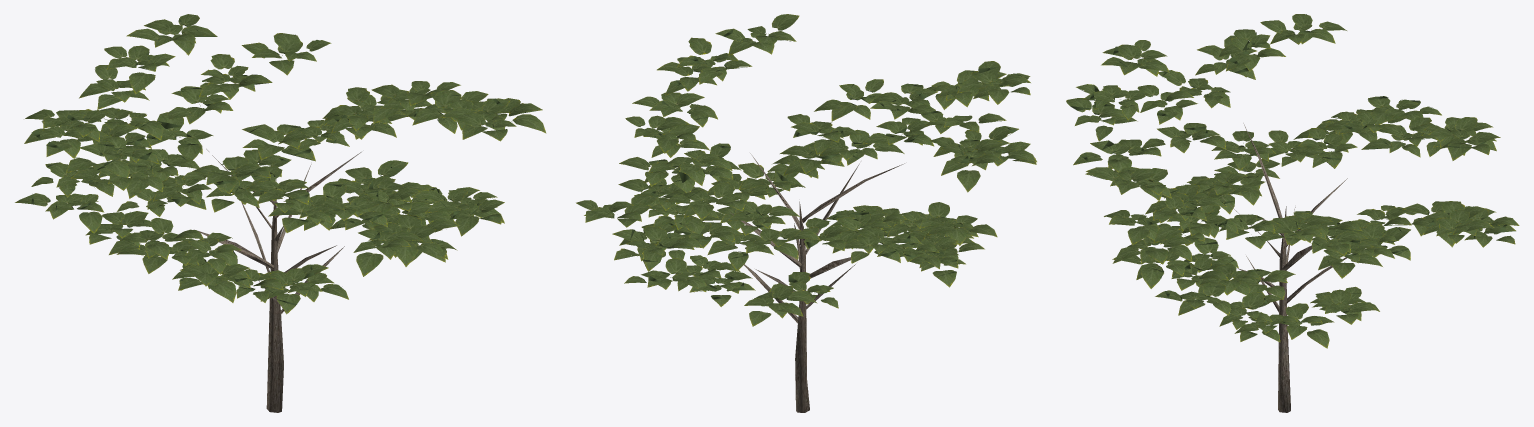
Rendered from broussonetia-4-lite.glb.
3 renders of one model, left to right at view 1: azimuth 30°, elevation 25°; view 2: azimuth 150°, elevation 25°; view 3: azimuth 270°, elevation 25°, orthographic. The views are drawn at different scales.
Parts seen in each view (by area): view 1: leaf, leaf-edge, bark; view 2: leaf, leaf-edge, bark; view 3: leaf, leaf-edge, bark.
Boxes of the visible parts, x1,y1,x2,y2 form: leaf: [15, 14, 546, 313]; leaf-edge: [31, 18, 539, 312]; bark: [194, 149, 361, 412]; leaf: [576, 14, 1036, 326]; leaf-edge: [613, 18, 1028, 306]; bark: [730, 153, 904, 412]; leaf: [1066, 14, 1519, 348]; leaf-edge: [1070, 14, 1515, 336]; bark: [1206, 123, 1352, 412].
Size of what is drawn, in the model's own units: 3.18 by 2.35 by 3.21.
Materials: 5 (4 with a texture image).
